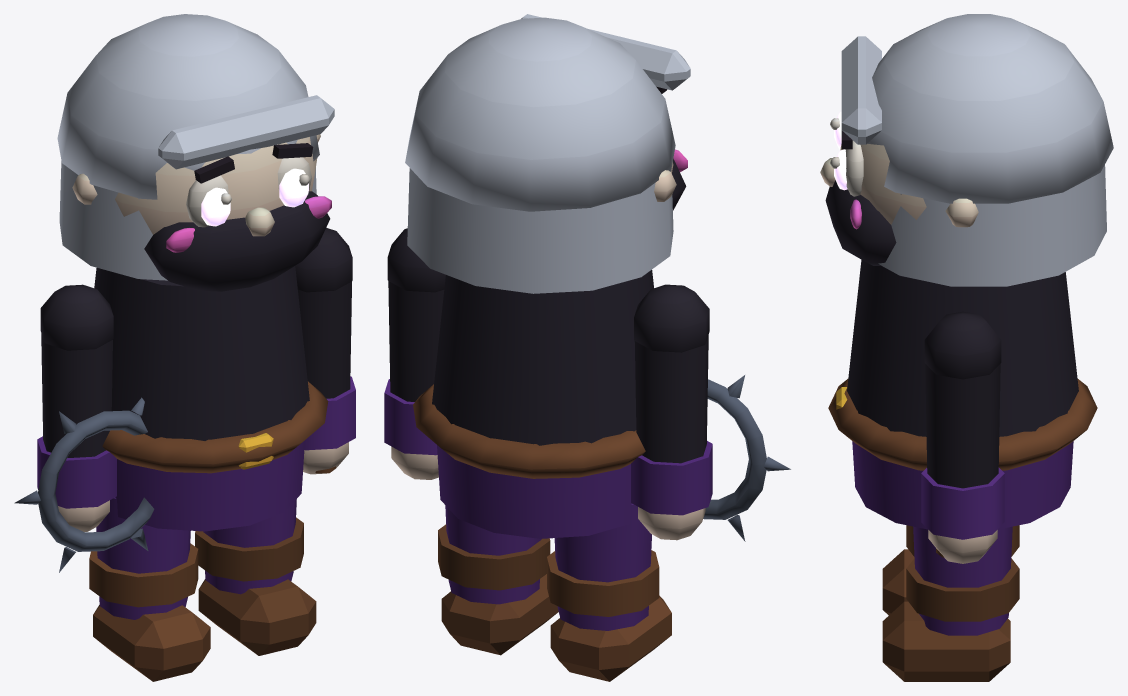
The model's file is hero_whisper.glb.
3 views of the same model, side by side, from view 1: azimuth 30°, elevation 25°; view 2: azimuth 150°, elevation 25°; view 3: azimuth 270°, elevation 25° (orthographic). The views are drawn at different scales.
Parts seen in each view (by area): view 1: body_t0_palette, arml_t0_palette, legl_t0_palette, legr_t0_palette, armr_t0_palette, body_t0_glow_violet; view 2: body_t0_palette, arml_t0_palette, legl_t0_palette, legr_t0_palette, armr_t0_palette; view 3: body_t0_palette, armr_t0_palette, legr_t0_palette, legl_t0_palette, body_t0_glow_violet.
Boxes of the visible parts, bbox=[...] form: body_t0_palette: bbox=[57, 14, 334, 531]; arml_t0_palette: bbox=[14, 284, 154, 572]; legl_t0_palette: bbox=[89, 497, 210, 681]; legr_t0_palette: bbox=[195, 499, 316, 655]; armr_t0_palette: bbox=[295, 228, 355, 474]; body_t0_glow_violet: bbox=[201, 168, 308, 226]; body_t0_palette: bbox=[405, 14, 690, 538]; arml_t0_palette: bbox=[631, 284, 790, 541]; legl_t0_palette: bbox=[547, 504, 671, 681]; legr_t0_palette: bbox=[438, 505, 558, 655]; armr_t0_palette: bbox=[384, 228, 445, 479]; body_t0_palette: bbox=[820, 14, 1113, 529]; armr_t0_palette: bbox=[921, 311, 1004, 563]; legr_t0_palette: bbox=[882, 526, 1019, 681]; legl_t0_palette: bbox=[882, 525, 1019, 615]; body_t0_glow_violet: bbox=[834, 111, 847, 190].
Size of the model in its own units: 0.317 by 0.508 by 0.218.
